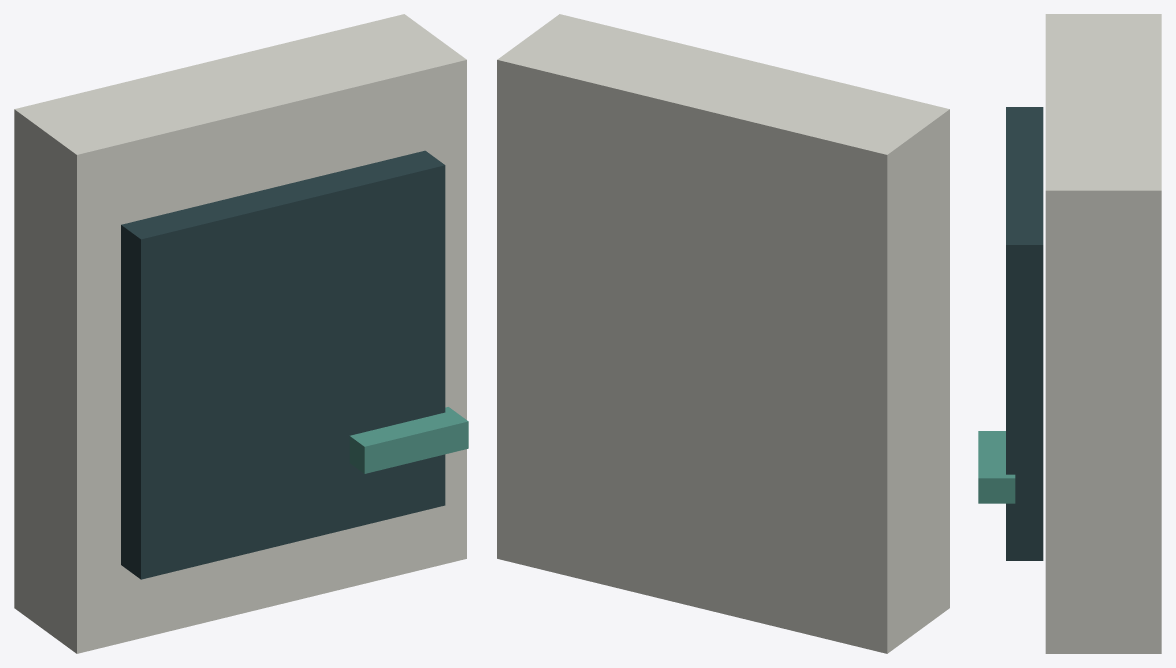
The model's file is smart_wall_switch.glb.
3 renders of one model, left to right at view 1: azimuth 30°, elevation 25°; view 2: azimuth 150°, elevation 25°; view 3: azimuth 270°, elevation 25°, orthographic. The views are drawn at different scales.
Parts seen in each view (by area): view 1: plate, display, status; view 2: plate; view 3: plate, display, status.
Boxes of the visible parts, x1,y1,x2,y2 form: plate: (14, 14, 466, 653); display: (121, 150, 445, 579); status: (349, 407, 468, 473); plate: (497, 14, 949, 653); plate: (1045, 14, 1161, 653); display: (1006, 107, 1043, 560); status: (978, 431, 1015, 503).
Bounding box in the file's own units: 0.09 × 0.11 × 0.0395.
